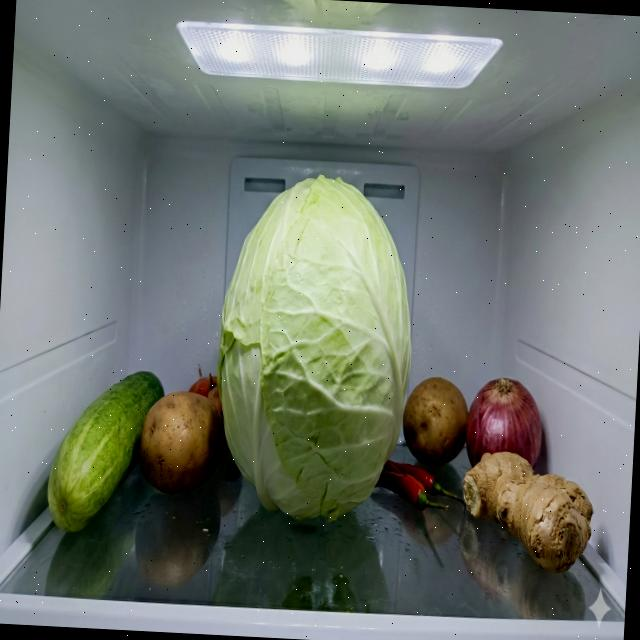cabbage: (208, 168, 421, 532)
chili: (373, 458, 469, 514)
cucumber: (46, 365, 166, 540)
ginger: (458, 449, 596, 575)
onion: (466, 376, 545, 473)
potato: (136, 388, 228, 498), (400, 374, 471, 468)
